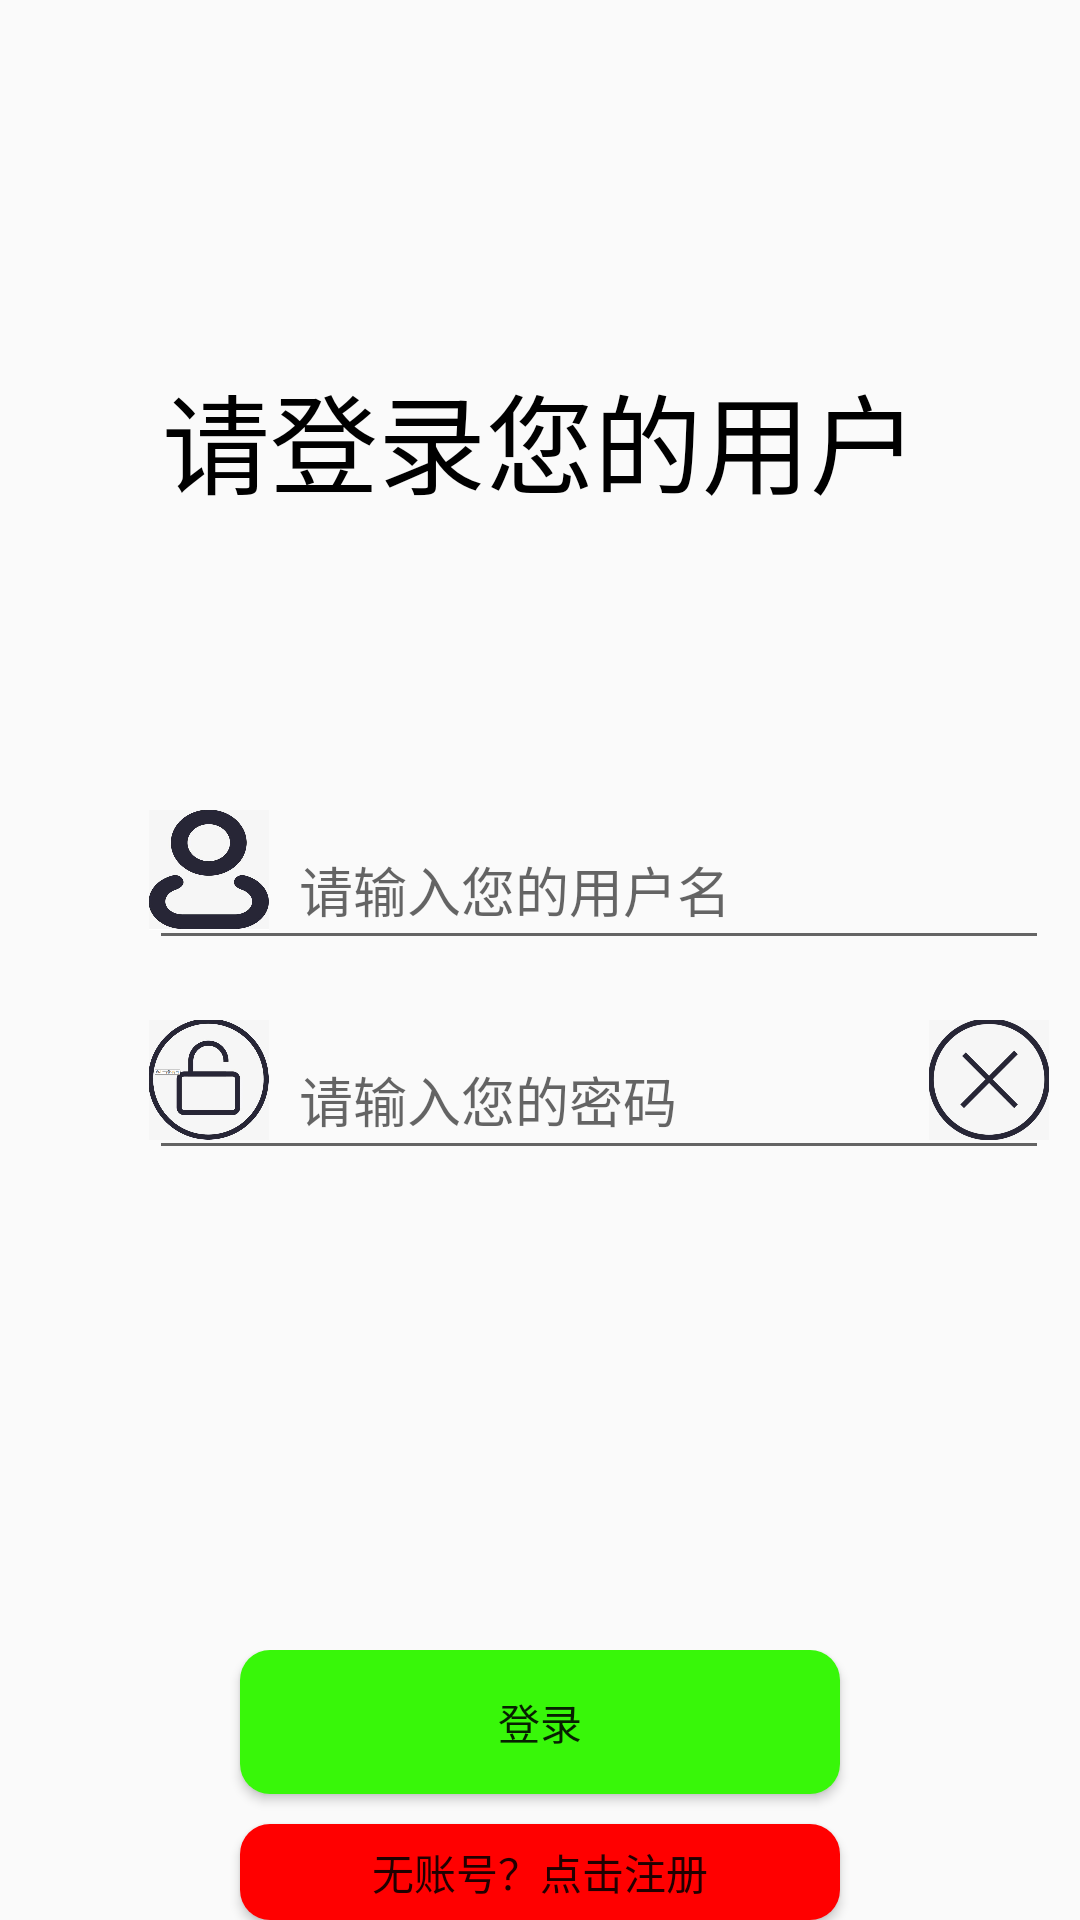

Icon click points for this 1080px x 1920px phone screenshot, format (x,y):
deletepasssword: (989,1080)
password: (209,1080)
username: (209,869)
